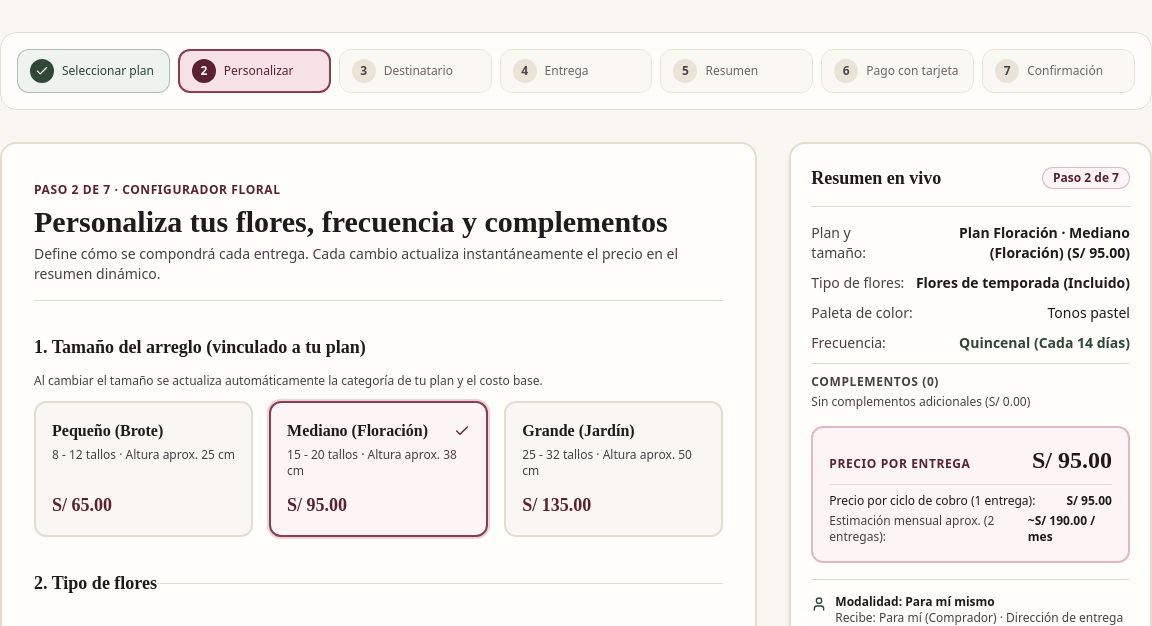
Test: Interacción y ccesibilidad (IHM) - El club de las flores › 1. Mapeo y Feedback: cambiar tamaño actualiza instantáneamente el precio en el resumen dinámico sin recargar
Check: the text with test id "summary-price-per-delivery" reads "S/ 95.00", box [1032,447,1112,473]
Click the button "Grande (Jardín)" at (614, 469), box [504,401,723,537]
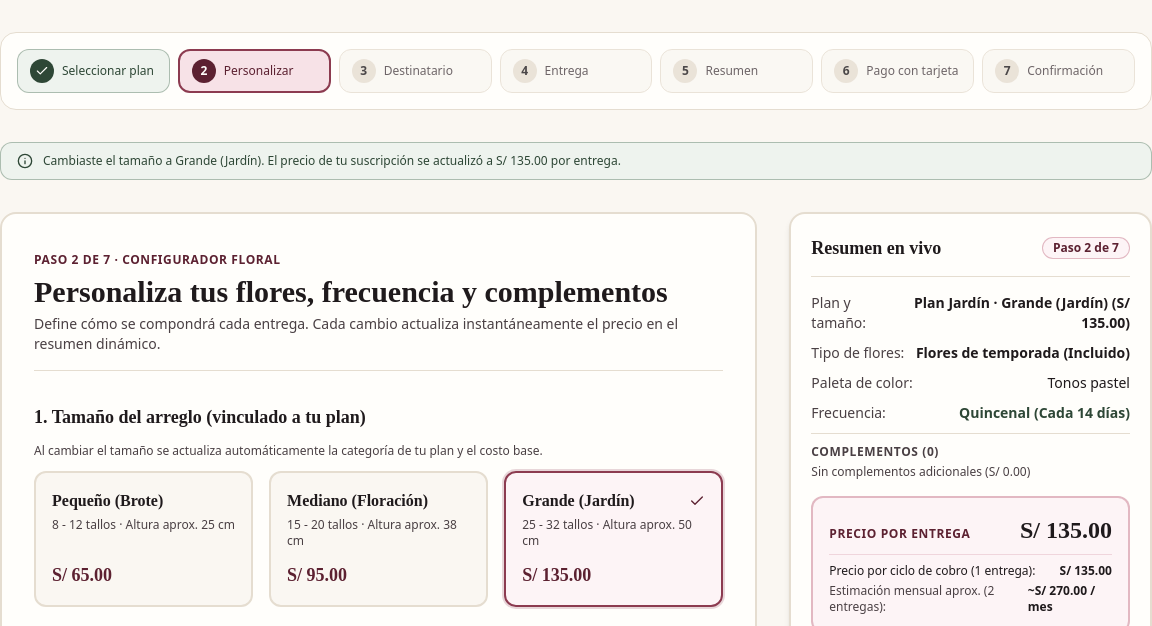
Check: the text with test id "summary-price-per-delivery" reads "S/ 135.00", box [1020,517,1112,543]
